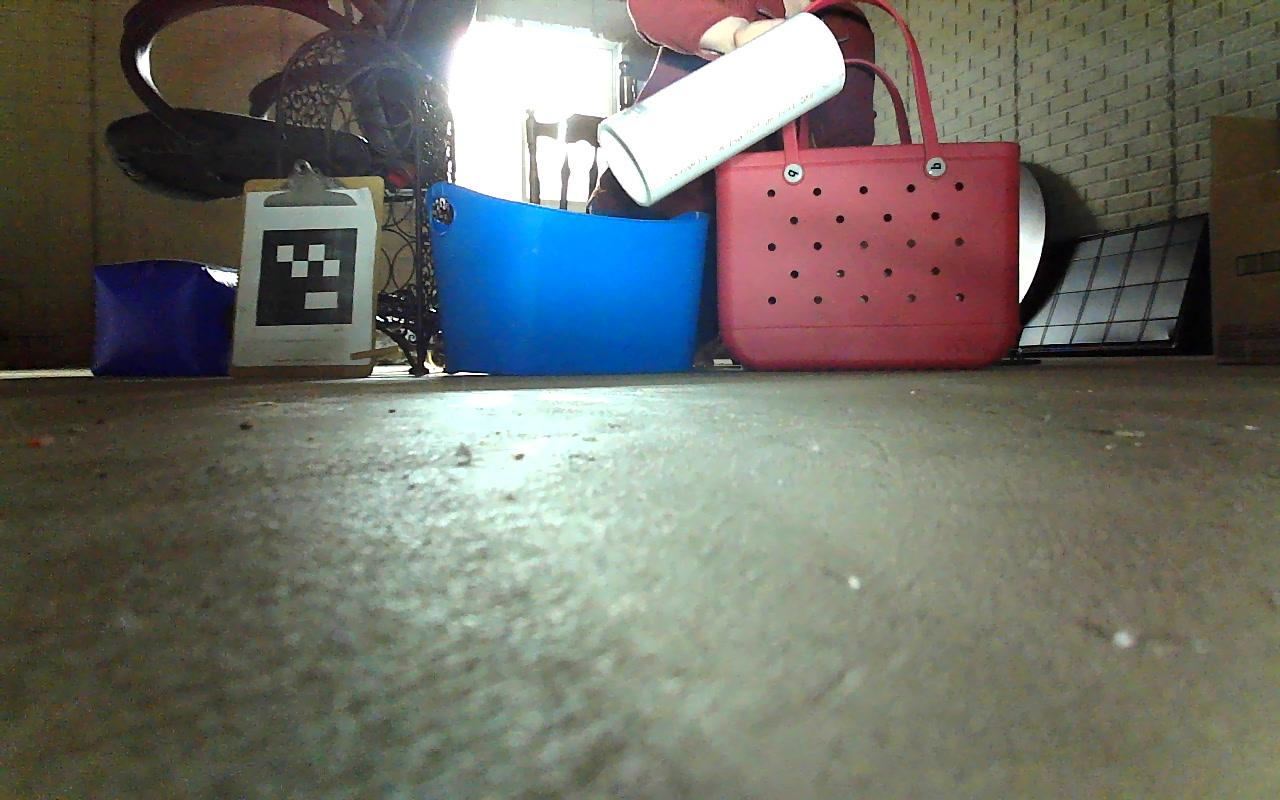coral: (582, 8, 845, 198)
